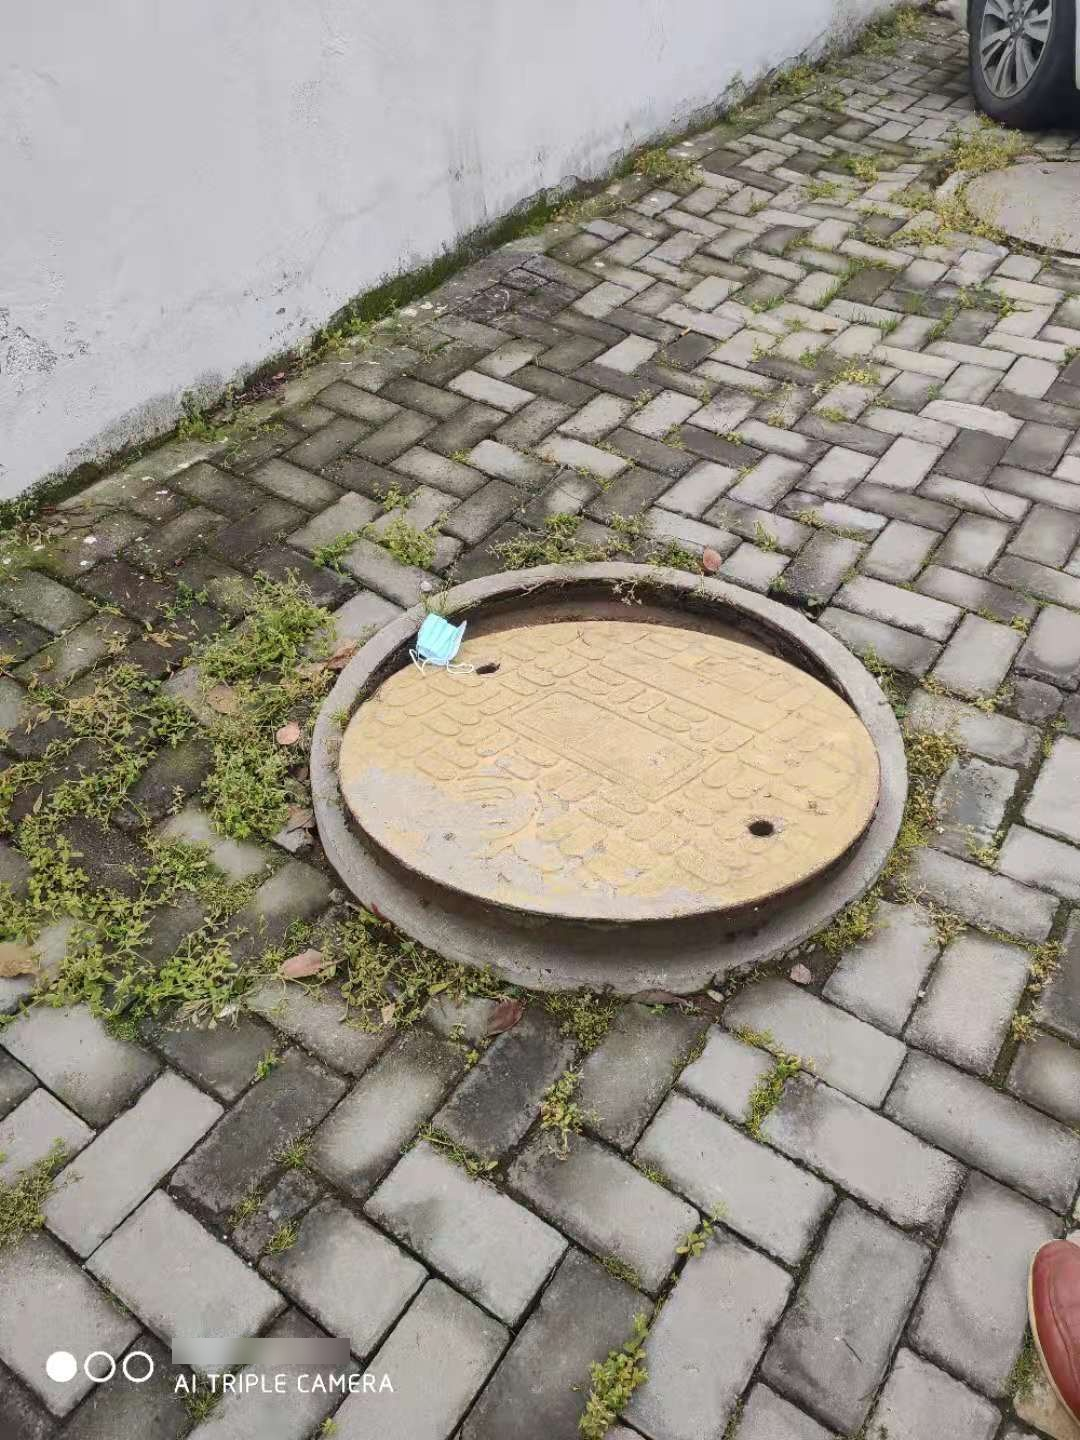uncovered: (309, 560, 911, 997)
